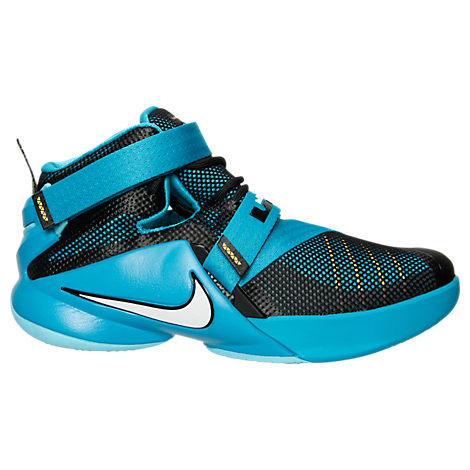nike: (60, 269, 216, 330)
